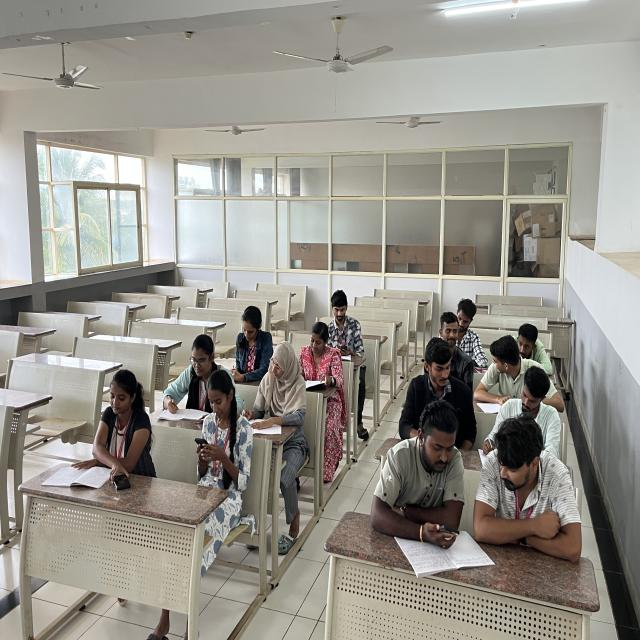Reading: (298, 323, 341, 399)
Using Phone: (395, 395, 471, 553), (92, 362, 153, 492), (190, 374, 249, 475), (329, 288, 365, 363)
Writing: (478, 373, 578, 464), (162, 330, 226, 421), (241, 342, 307, 428), (232, 302, 268, 388)
